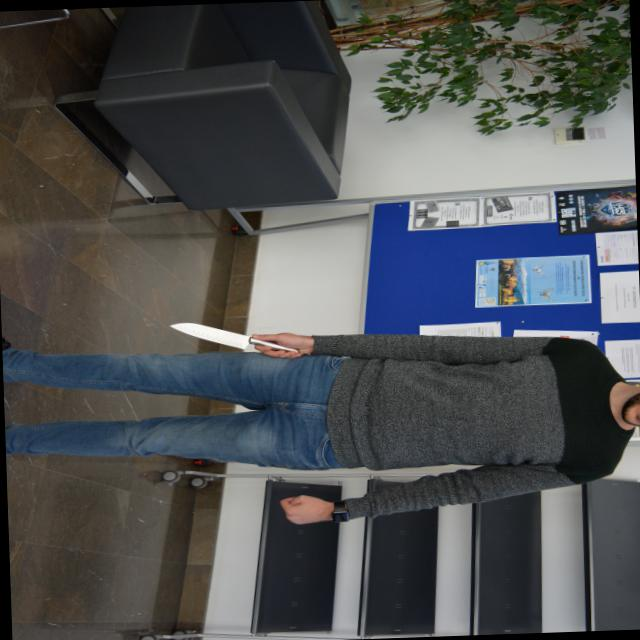knife: (164, 314, 301, 359)
